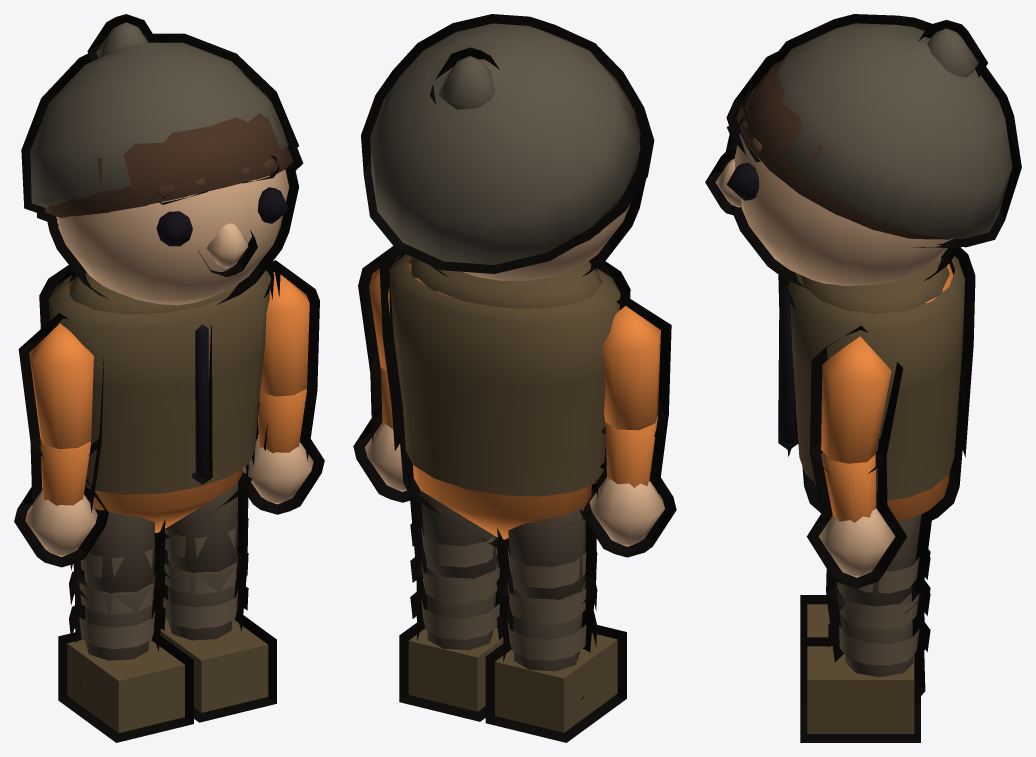
The model's file is carter.glb.
The picture shows the model from 3 angles, left to right: view 1: azimuth 30°, elevation 25°; view 2: azimuth 150°, elevation 25°; view 3: azimuth 270°, elevation 25°; orthographic projection. The views are drawn at different scales.
Visible parts, largest first — view 1: Head, Torso.001, Head.001, LegR, LegL, ArmR, ArmL, Torso, HandR, HandL, LegR.001, LegL.001; view 2: Head.001, Torso.001, LegR, LegL, Torso, ArmR, LegR.001, HandR, LegL.001, Head, ArmL, HandL; view 3: Head.001, Torso.001, Head, LegL, ArmL, Torso, HandL, LegL.001, LegR.
Boxes of the visible parts, <box> form: Head: <box>36,70,303,305</box>; Torso.001: <box>39,261,280,494</box>; Head.001: <box>21,14,298,219</box>; LegR: <box>58,508,193,742</box>; LegL: <box>160,464,276,722</box>; ArmR: <box>18,312,103,512</box>; ArmL: <box>256,260,319,460</box>; Torso: <box>48,266,274,538</box>; HandR: <box>14,474,108,567</box>; HandL: <box>243,426,324,514</box>; LegR.001: <box>69,534,165,648</box>; LegL.001: <box>163,513,248,628</box>; Head.001: <box>361,14,649,273</box>; Torso.001: <box>379,247,630,496</box>; LegR: <box>485,484,626,742</box>; LegL: <box>399,460,503,721</box>; Torso: <box>388,250,623,549</box>; ArmR: <box>596,295,671,497</box>; LegR.001: <box>496,538,597,660</box>; HandR: <box>580,461,676,557</box>; LegL.001: <box>410,516,499,639</box>; Head: <box>421,19,654,280</box>; ArmL: <box>358,246,394,443</box>; HandL: <box>353,406,409,502</box>; Head.001: <box>741,14,1021,247</box>; Torso.001: <box>778,248,975,500</box>; Head: <box>705,27,978,288</box>; LegL: <box>800,507,933,742</box>; ArmL: <box>809,325,902,527</box>; Torso: <box>783,252,965,526</box>; HandL: <box>806,491,907,588</box>; LegL.001: <box>828,554,930,665</box>; LegR: <box>800,595,924,649</box>.
Size of the model in its own units: 0.9001 by 1.93 by 0.8048.
